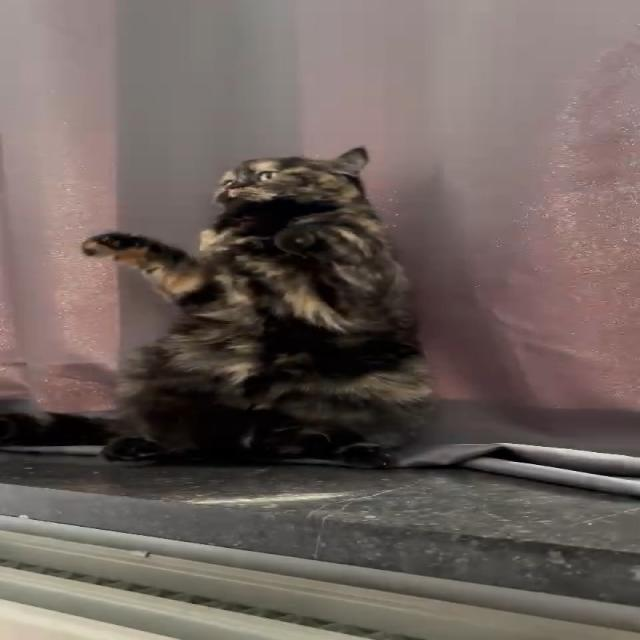authorized: (79, 144, 436, 469)
